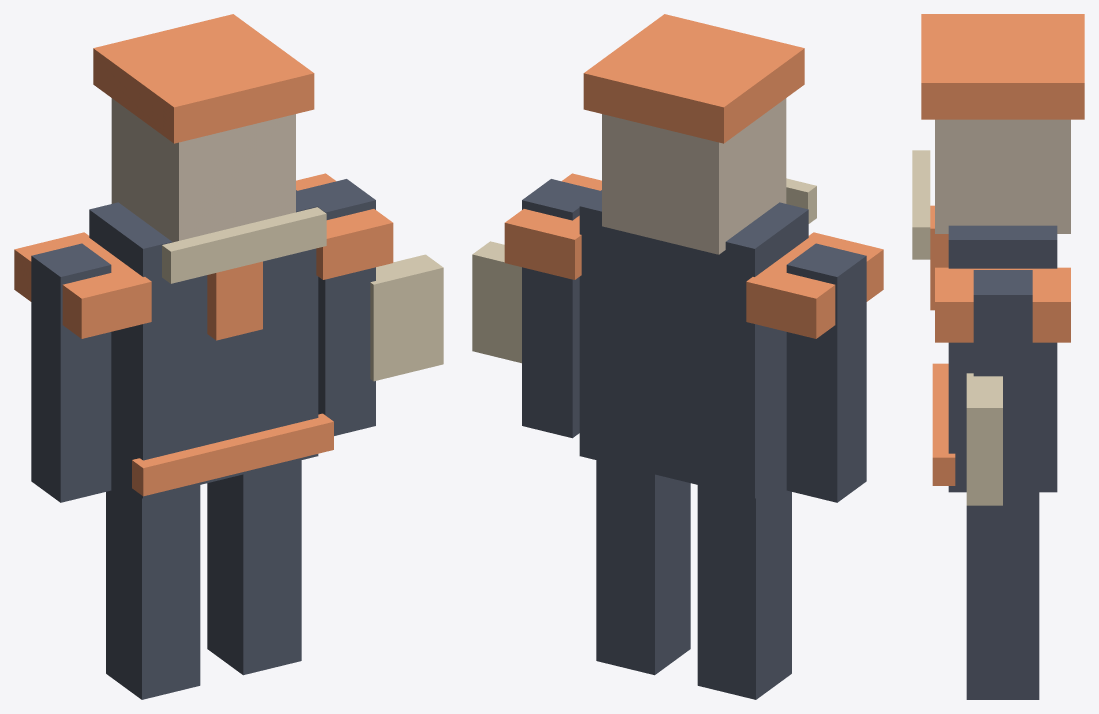
The model's file is 18_brant_starfall_archivist_near_central.glb.
3 renders of one model, left to right at view 1: azimuth 30°, elevation 25°; view 2: azimuth 150°, elevation 25°; view 3: azimuth 270°, elevation 25°, orthographic.
Visible parts, largest first — view 1: Brant Starfall, Archivist near Central; view 2: Brant Starfall, Archivist near Central; view 3: Brant Starfall, Archivist near Central.
Boxes of the visible parts, x1,y1,x2,y2 form: Brant Starfall, Archivist near Central: [14, 14, 443, 699]; Brant Starfall, Archivist near Central: [472, 14, 883, 699]; Brant Starfall, Archivist near Central: [912, 14, 1084, 699].
Size of the model in its own units: 0.9362 by 1.43 by 0.3649.
